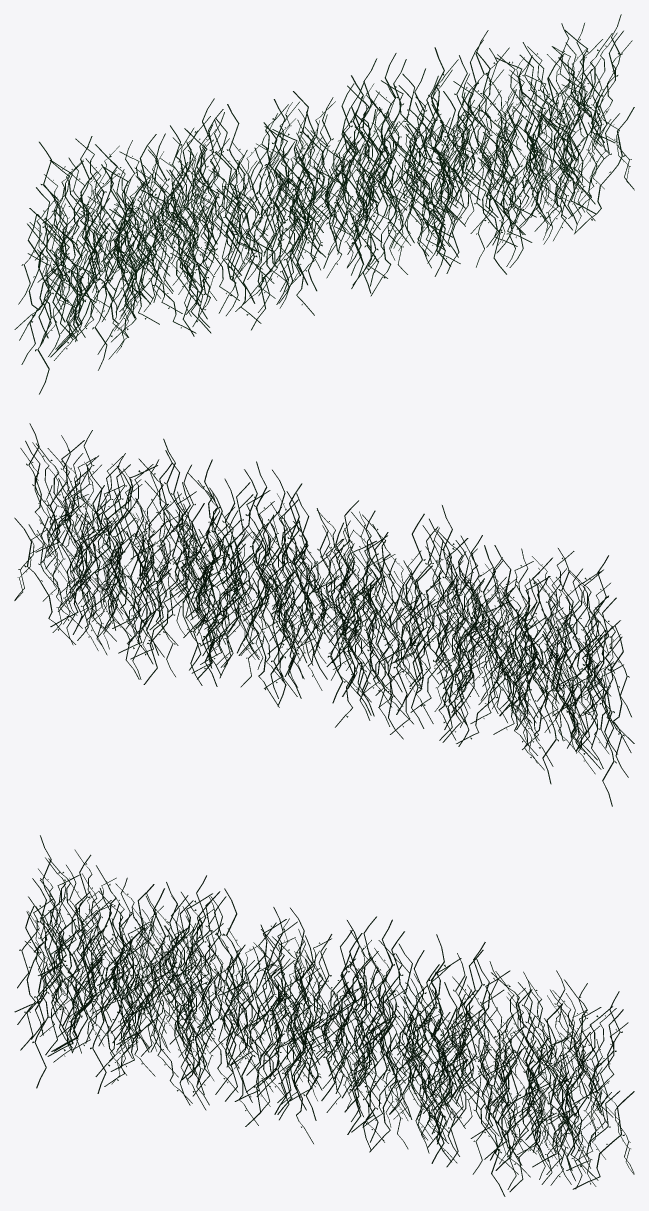
The model's file is vines.glb.
The picture shows the model from 3 angles, top to bottom: view 1: azimuth 30°, elevation 25°; view 2: azimuth 150°, elevation 25°; view 3: azimuth 330°, elevation 25°; orthographic projection.
Parts seen in each view (by area): view 1: Garden_Diorama.001; view 2: Garden_Diorama.001; view 3: Garden_Diorama.001.
Boxes of the visible parts, x1,y1,x2,y2 form: Garden_Diorama.001: (14, 14, 634, 394); Garden_Diorama.001: (14, 423, 634, 806); Garden_Diorama.001: (14, 835, 634, 1196).
Bounding box in the file's own units: 85.52 × 33.8 × 1.33.
